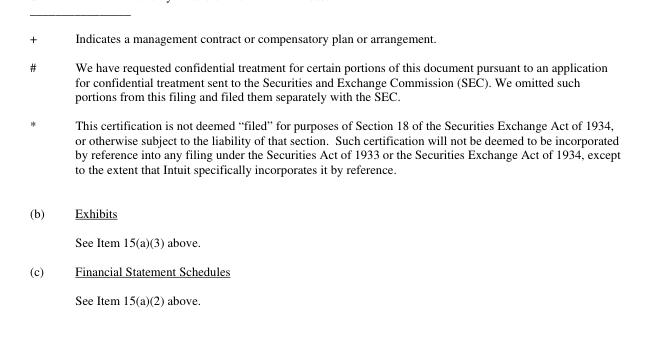table: (28, 28, 619, 307)
table column: (59, 28, 619, 307), (28, 28, 59, 307)
table row: (28, 109, 619, 189), (28, 51, 619, 109), (28, 189, 619, 226), (28, 226, 619, 255), (28, 255, 619, 284), (28, 28, 619, 51), (28, 284, 619, 307)
table spanning cell: (28, 189, 59, 255), (28, 255, 59, 307)
